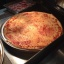pizza: (4, 12, 63, 50)
